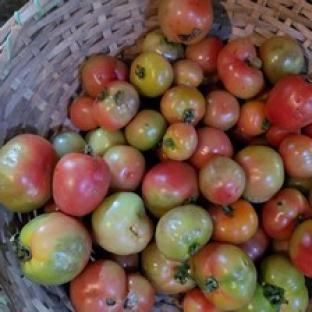Tomato: (16, 212, 91, 285), (190, 241, 257, 310), (0, 134, 57, 213), (91, 191, 154, 254), (52, 154, 111, 215), (155, 204, 213, 260), (143, 161, 199, 217), (234, 145, 284, 203), (141, 241, 196, 293), (70, 260, 126, 311), (218, 37, 264, 98), (260, 254, 309, 311), (261, 189, 311, 239), (267, 74, 311, 130), (198, 155, 246, 206), (92, 80, 140, 130), (208, 198, 259, 245), (260, 35, 305, 83), (81, 53, 129, 98), (130, 52, 174, 97), (189, 126, 233, 169), (104, 145, 146, 190), (124, 109, 167, 151), (161, 85, 206, 125), (186, 37, 224, 76), (202, 90, 239, 130), (143, 28, 185, 62), (279, 134, 311, 178), (161, 122, 197, 161), (239, 223, 271, 263), (123, 272, 155, 311), (290, 219, 311, 277), (236, 101, 270, 136), (236, 283, 278, 311), (84, 127, 126, 155), (69, 95, 97, 130), (51, 131, 86, 158), (265, 124, 300, 150), (183, 287, 220, 311), (173, 59, 203, 87)
